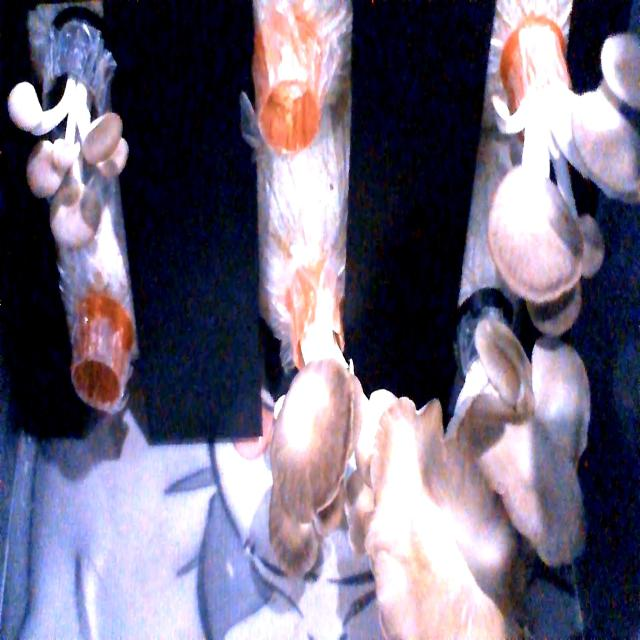big: (358, 329, 632, 640), (459, 8, 640, 347), (254, 375, 385, 570)
nfound: (254, 73, 328, 162), (65, 345, 135, 434)
small: (2, 71, 144, 258)
